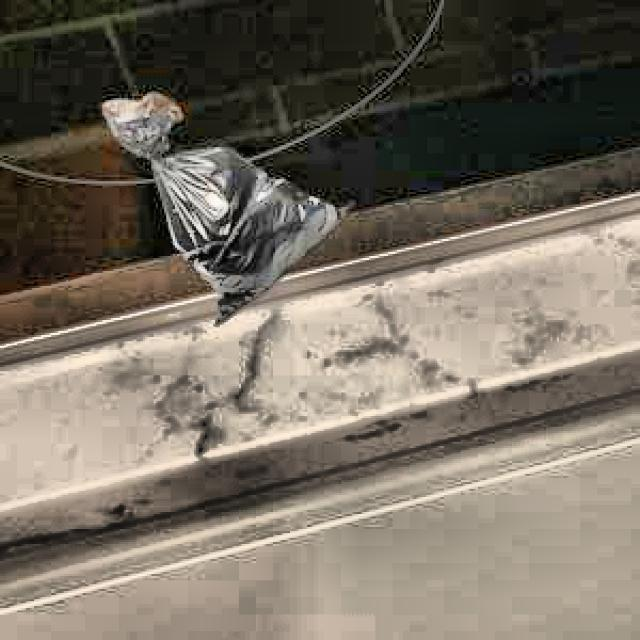Trashbag: (101, 84, 357, 337)
